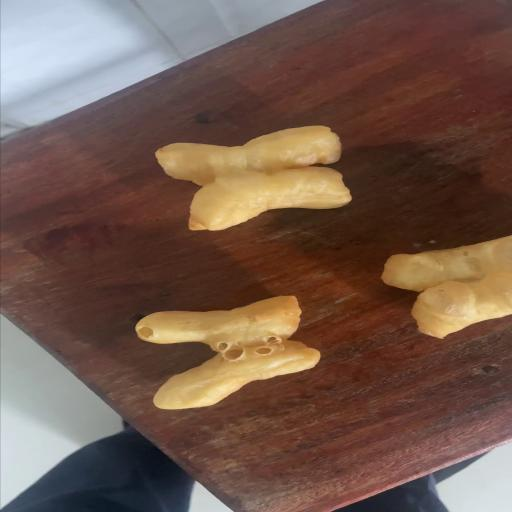street_golden_defect: (134, 298, 322, 407), (385, 236, 511, 336)
street_golden_good: (158, 127, 354, 230)
